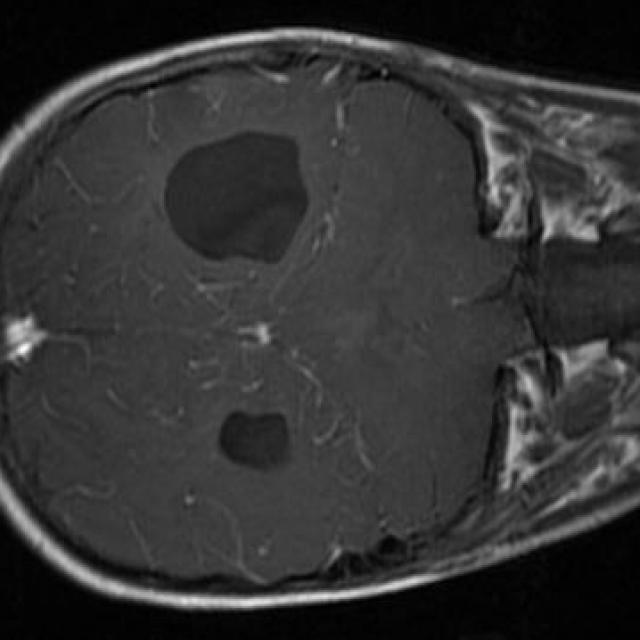glioma: (160, 127, 308, 267)
